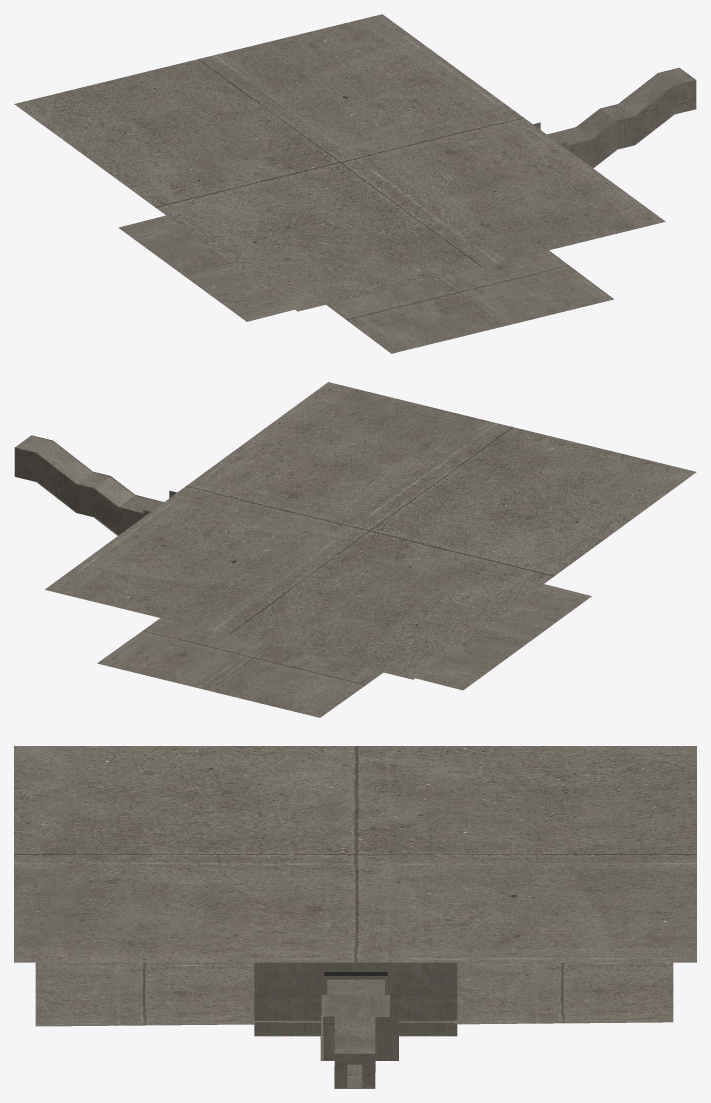
Rendered from 3drop_gallery_v102.glb.
3 views of the same model, one above another, from view 1: azimuth 30°, elevation 25°; view 2: azimuth 150°, elevation 25°; view 3: azimuth 270°, elevation 25° (orthographic). The views are drawn at different scales.
Visible parts, largest first — view 1: frameConcreteExternalTop, sideLeftPlateformConcrete_grndPhys, backPlateformConcrete_grndPhys, entranceSurroundingWalls, entranceBackCeiling; view 2: frameConcreteExternalTop, sideRightPlateformConcrete_grndPhys, backPlateformConcrete_grndPhys, entranceSurroundingWalls, entranceBackCeiling; view 3: frameConcreteExternalTop, sideLeftPlateformConcrete_grndPhys, sideRightPlateformConcrete_grndPhys, demoZoneSurroundingPlanes, entranceBackCeiling, entranceSurroundingWalls, entranceLobbyConcrete, frameConcreteExternal.
Part boxes in pixels (x1,y1,x2,y2): frameConcreteExternalTop: (14,14,665,311); sideLeftPlateformConcrete_grndPhys: (326,250,613,353); backPlateformConcrete_grndPhys: (118,215,294,321); entranceSurroundingWalls: (547,67,696,168); entranceBackCeiling: (547,68,695,145); frameConcreteExternalTop: (45,382,696,679); sideRightPlateformConcrete_grndPhys: (97,618,383,717); backPlateformConcrete_grndPhys: (415,584,591,690); entranceSurroundingWalls: (14,435,163,535); entranceBackCeiling: (15,436,163,512); frameConcreteExternalTop: (14,746,696,962); sideLeftPlateformConcrete_grndPhys: (35,962,254,1026); sideRightPlateformConcrete_grndPhys: (454,962,673,1024); demoZoneSurroundingPlanes: (254,962,457,1036); entranceBackCeiling: (321,995,389,1053); entranceSurroundingWalls: (323,1016,398,1088); entranceLobbyConcrete: (323,976,387,1035); frameConcreteExternal: (324,962,387,971).
Size of the model in its own units: 271 by 43.67 by 250.
4 materials, 4 textured.
